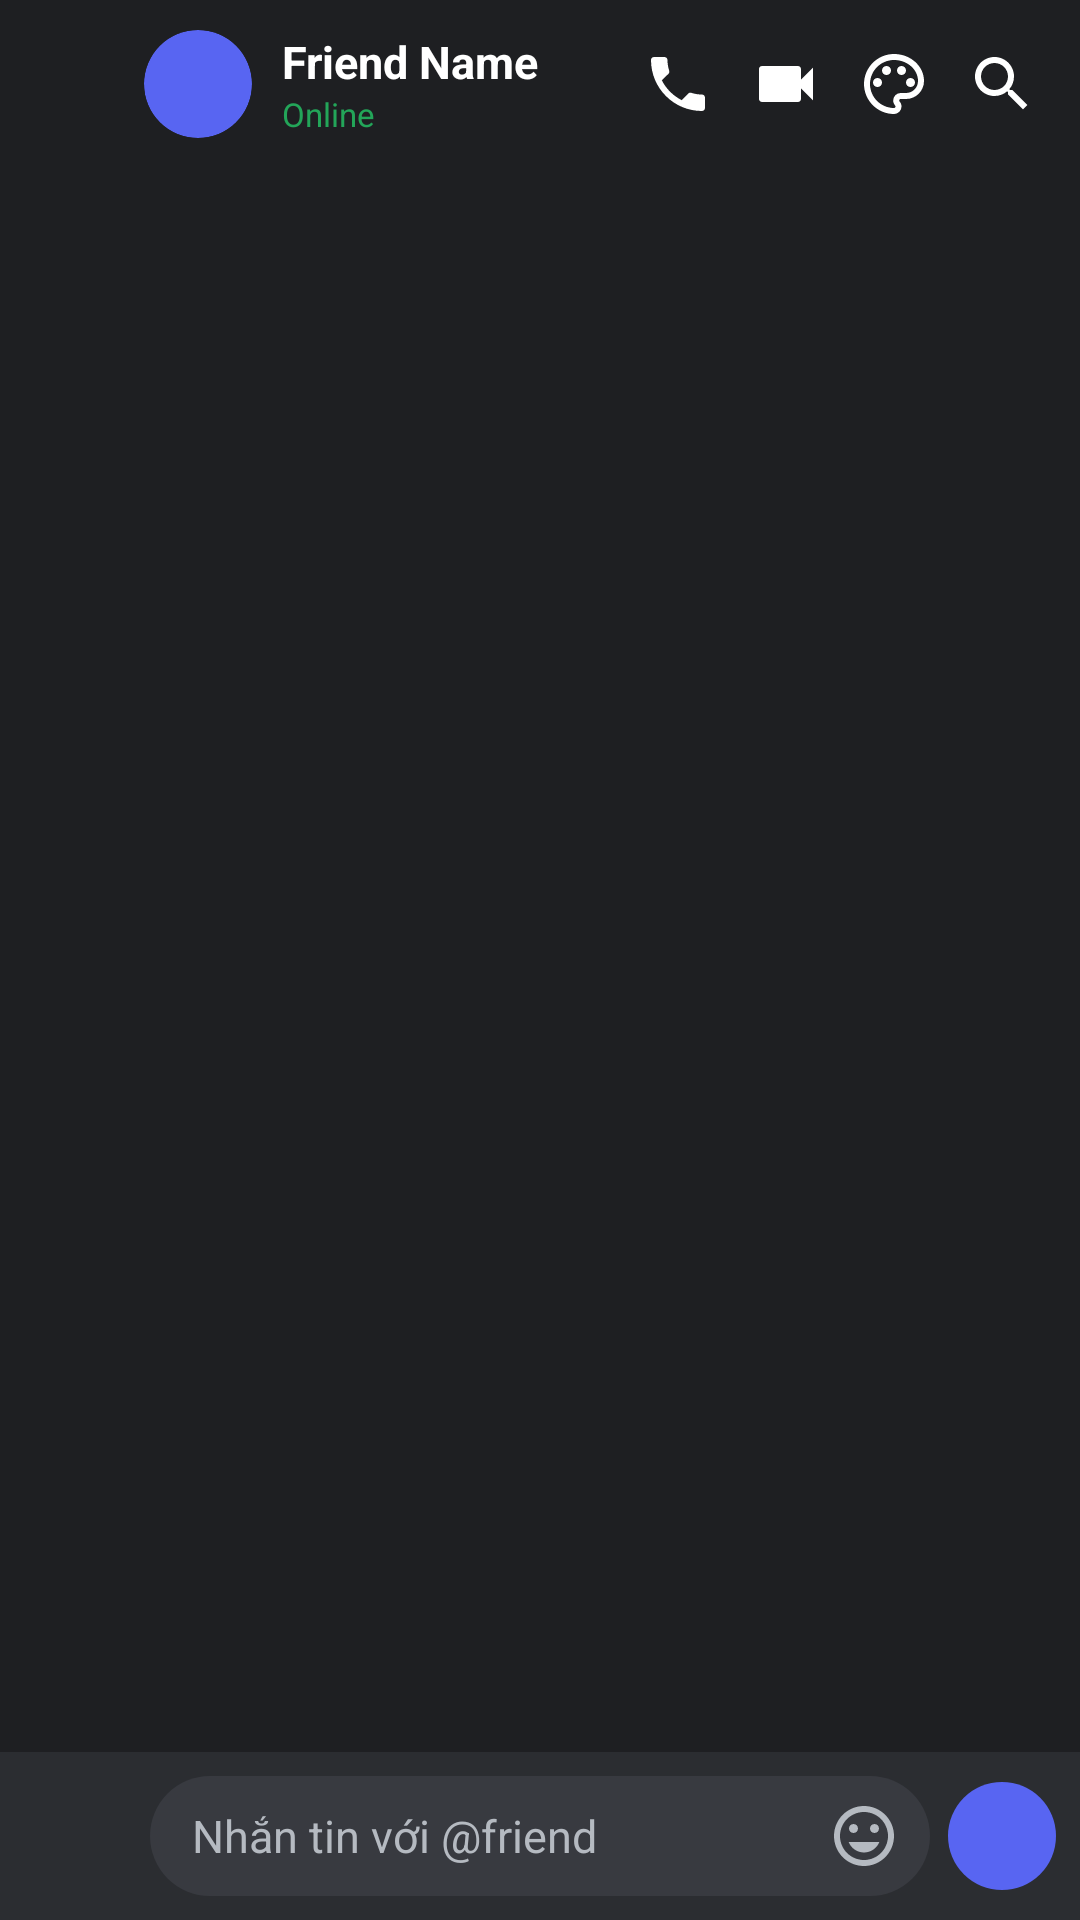

Locate icon controls on the screen. Image size 1080px×1920px, boxes as (x1, y1, x2, y2).
emoji: (834, 1806, 894, 1866)
palette: (864, 54, 924, 114)
phone: (651, 57, 705, 111)
search: (975, 57, 1027, 109)
video call: (759, 66, 813, 102)
